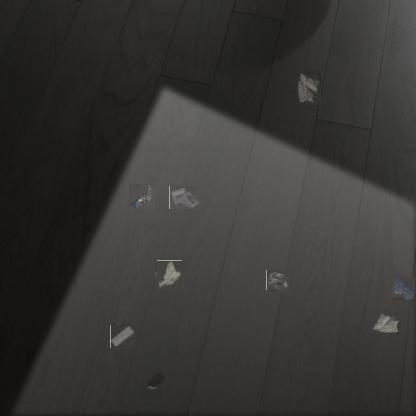dirty: (297, 71, 321, 105), (156, 261, 183, 289), (169, 185, 200, 209), (129, 184, 155, 210), (371, 312, 401, 334), (110, 324, 135, 349), (267, 270, 289, 291)
liquid: (391, 277, 415, 301), (146, 370, 166, 390)
